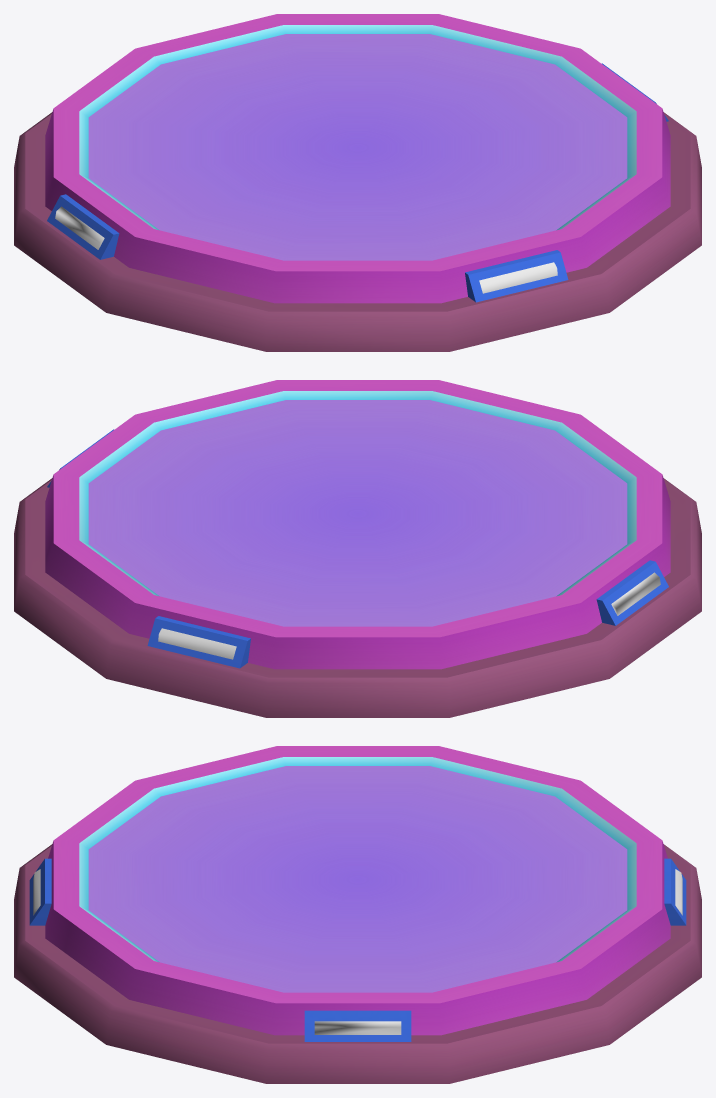
File: StartPad.glb
The picture shows the model from 3 angles, top to bottom: view 1: azimuth 30°, elevation 25°; view 2: azimuth 150°, elevation 25°; view 3: azimuth 270°, elevation 25°; orthographic projection.
Visible parts, largest first — view 1: StartPad; view 2: StartPad; view 3: StartPad.
Part boxes in pixels (x1,y1,x2,y2): StartPad: (14, 14, 701, 351); StartPad: (14, 380, 701, 717); StartPad: (14, 746, 701, 1083).
Size of what is drawn, in the model's own units: 1.96 by 0.2 by 1.96.
Materials: 2 (1 with a texture image).
